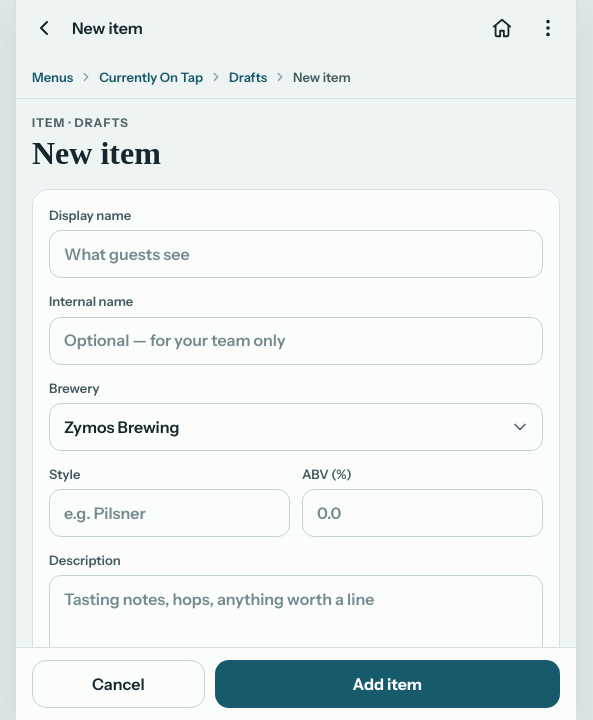
ItemEditorPage: new item › highlights missing and invalid fields instead of saving
This screenshot has width=593, height=720.
Type "150" into the field labelled "ABV (%)". click: (422, 513)
box: [302, 489, 543, 537]
(page scrolled)
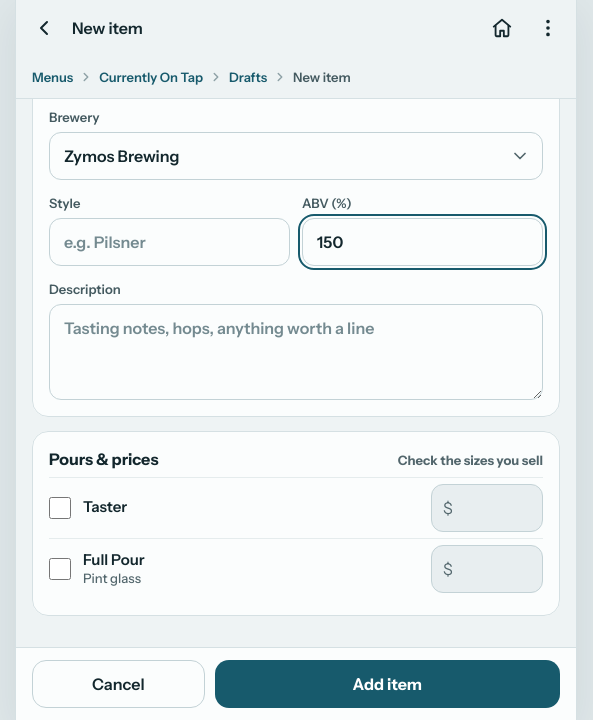
Click the checkbox labelled "Taster". click: (60, 508)
box: [49, 496, 71, 518]
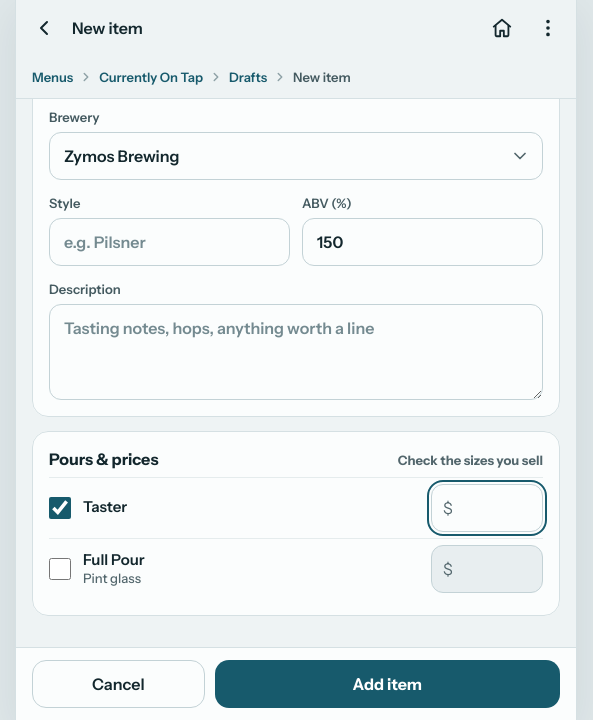
Click the button "Add item". click: (387, 684)
box: [215, 660, 560, 708]
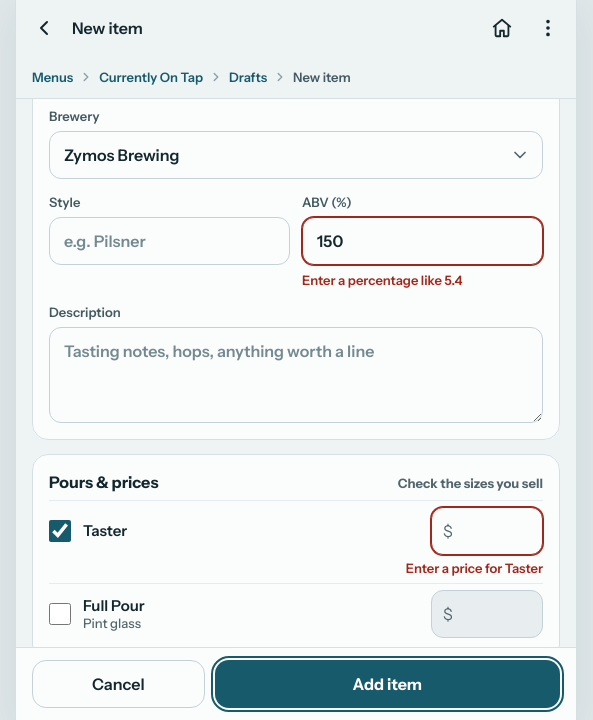
Result: the text "Enter a percentage like 5.4" is shown at [302, 272, 462, 288]
Result: the text "Enter a price for Taster" is shown at [406, 560, 543, 576]
